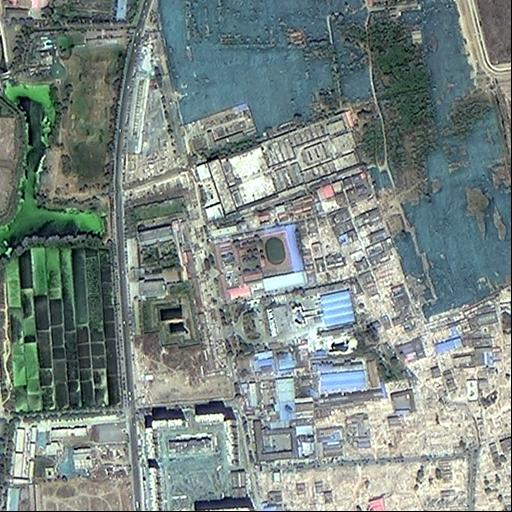school: (214, 225, 306, 301)
